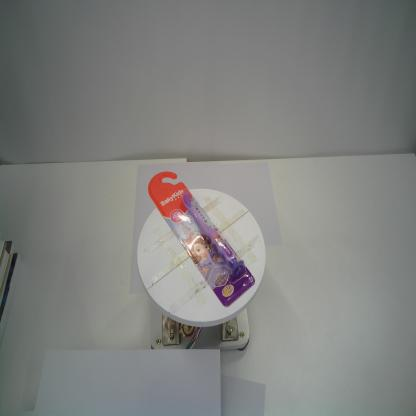Personal Hygiene: (148, 171, 255, 307)
